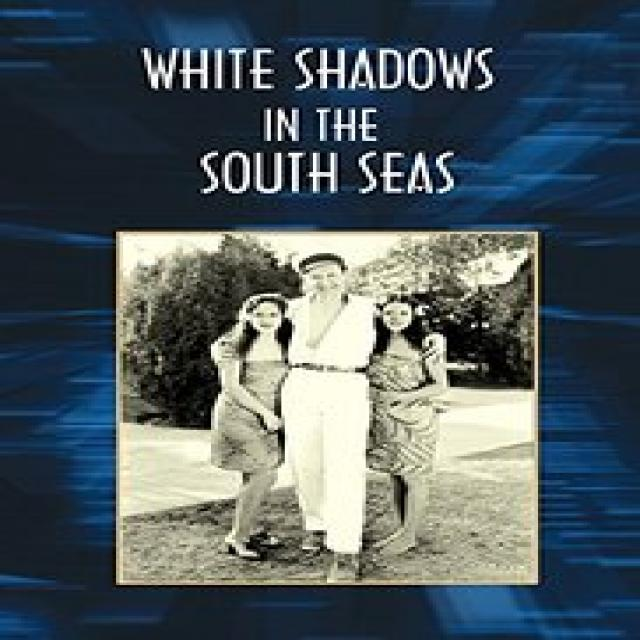movie-judul: (124, 29, 537, 215)
picture: (120, 232, 539, 586)
